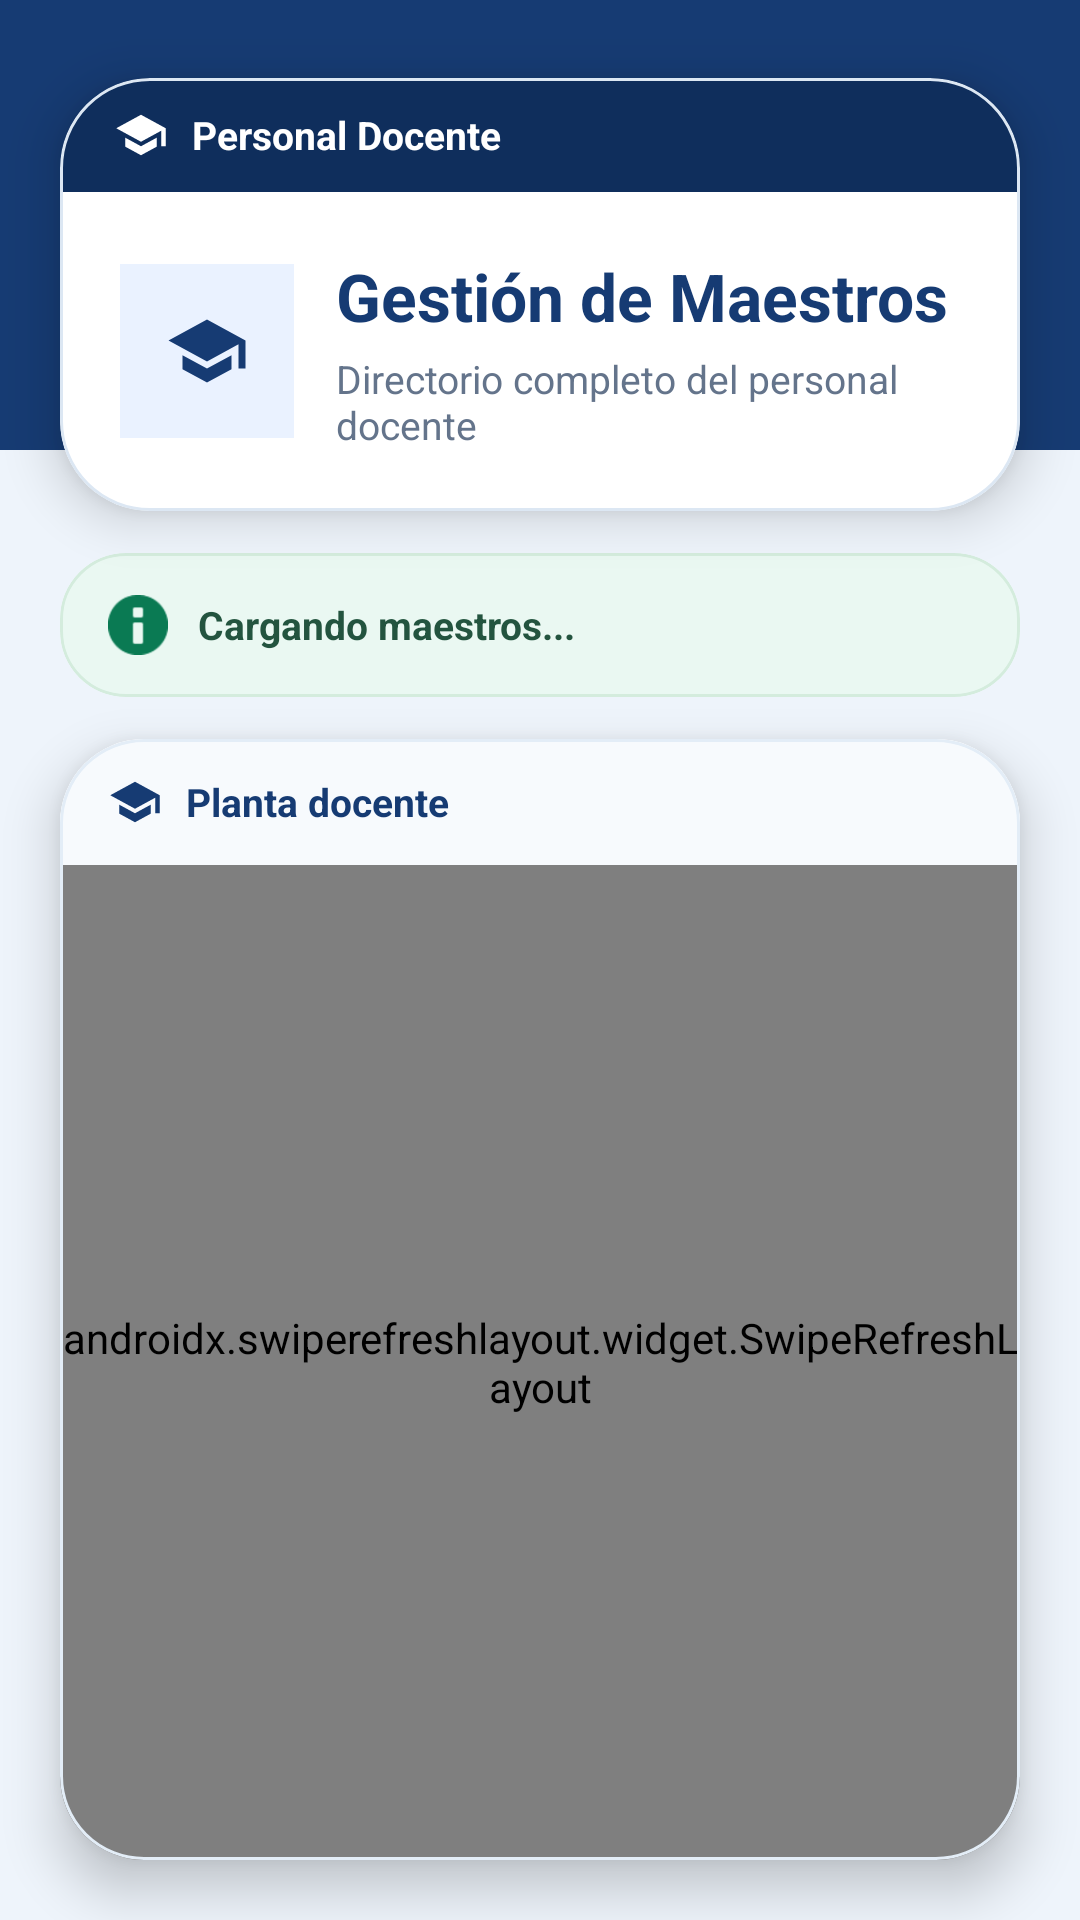

Where to tap for icons on this 1080×1920 app screen, as (x,y):
graduate: (141,135), (207,351), (135,802)
info: (138,625)
